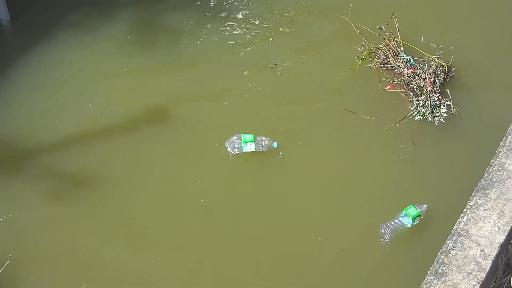plastic: (356, 199, 432, 252), (223, 132, 288, 157)
twig: (326, 5, 461, 127), (0, 250, 16, 277)
